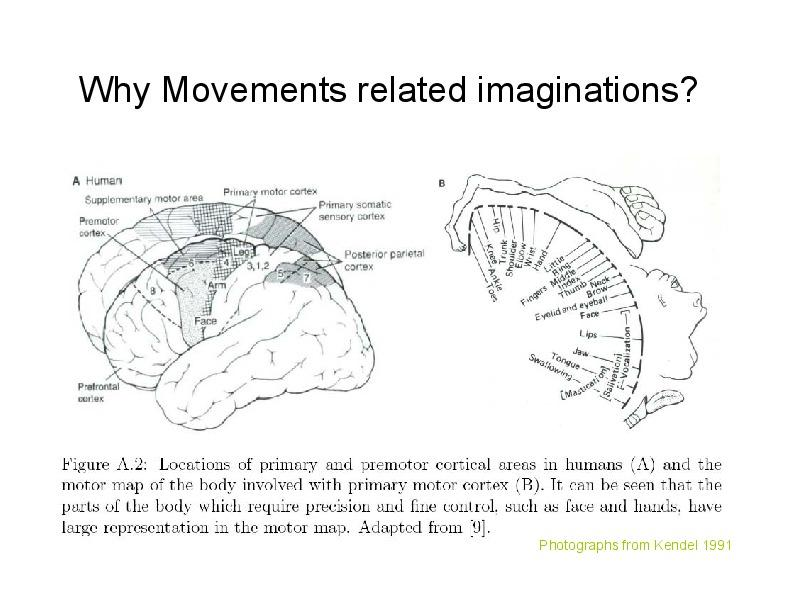paragraph: (50, 429, 743, 539)
title: (73, 55, 704, 118)
